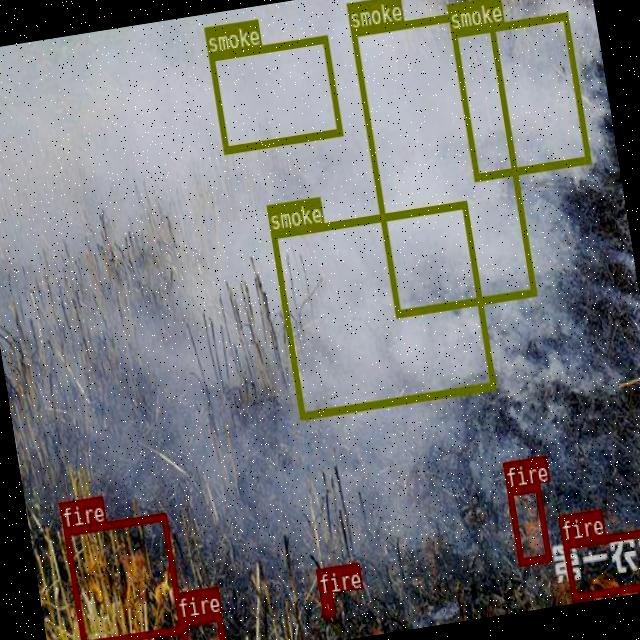fire: (62, 511, 183, 640), (561, 524, 640, 599), (506, 483, 550, 565), (178, 612, 226, 640), (320, 592, 334, 617)
smoke: (350, 6, 536, 317), (270, 199, 496, 418), (450, 12, 590, 180), (208, 34, 342, 154)
